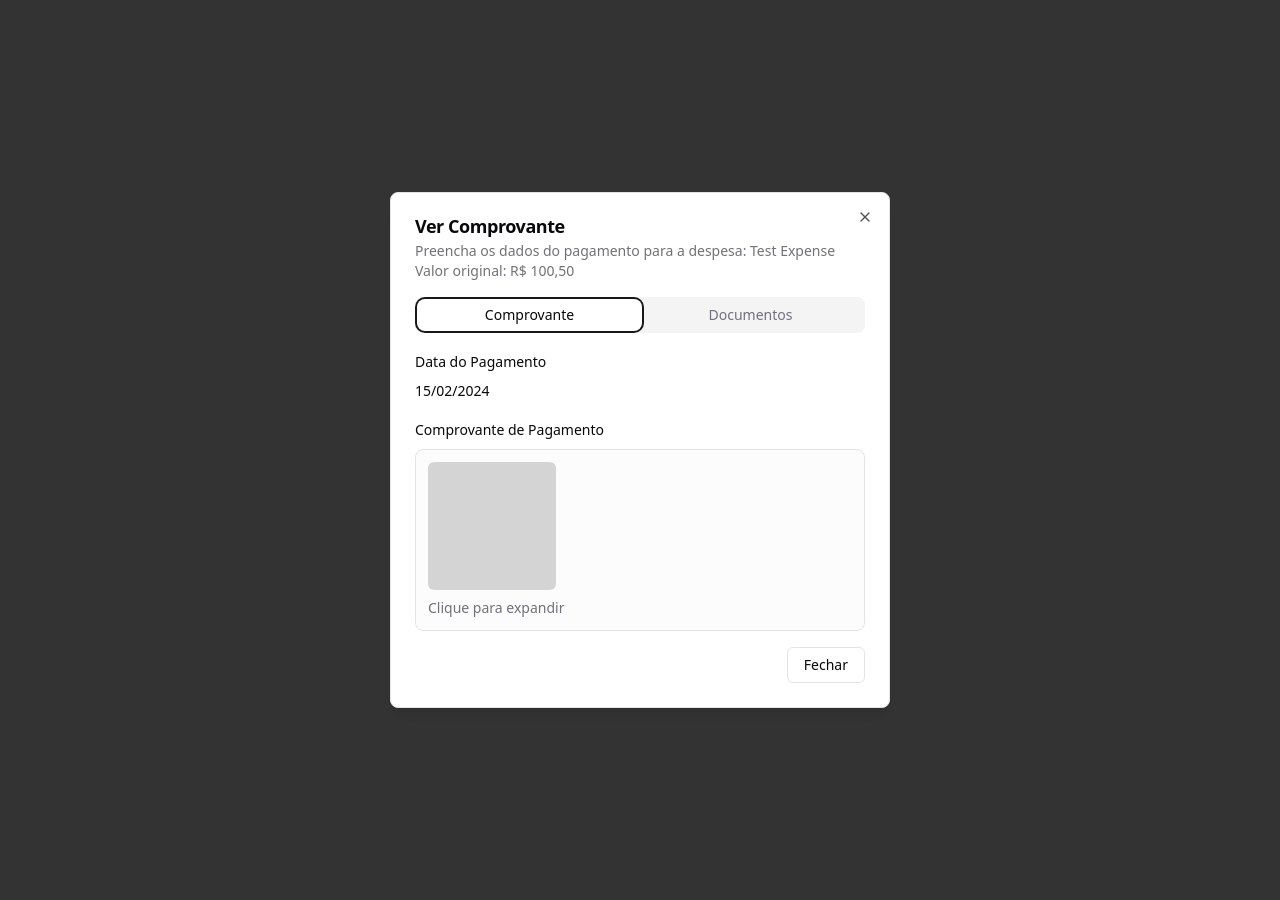
Scenario: PaymentModal › View mode for PAID expense › lightbox closes correctly
The width and height of the screenshot is (1280, 900).
Click the element with test id "image-container" at coordinates (496, 540), box [428,462,564,617]
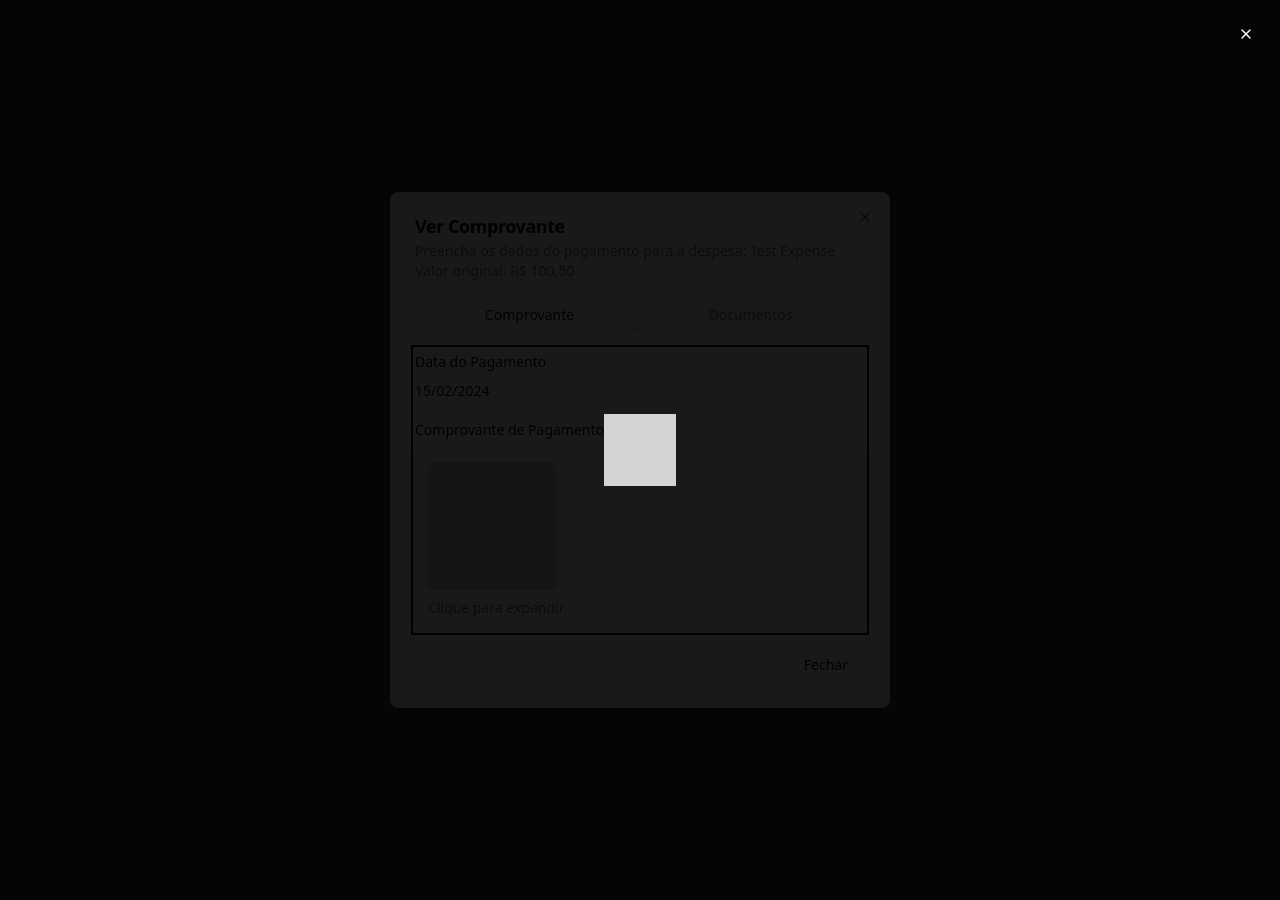
Now the element with test id "viewer-overlay" is shown
Press Escape in the element with test id "viewer-overlay"
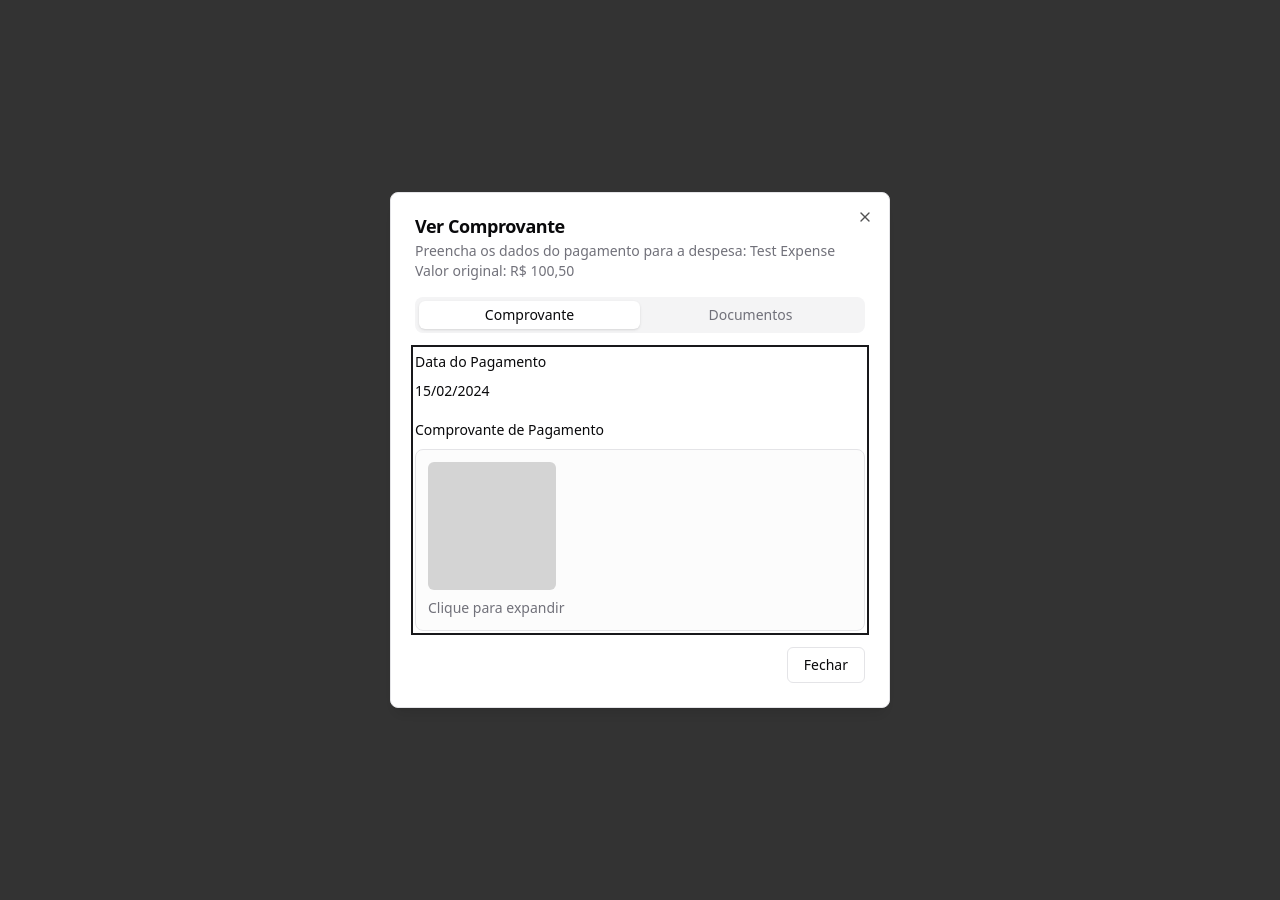
Now the element with test id "viewer-overlay" is gone
